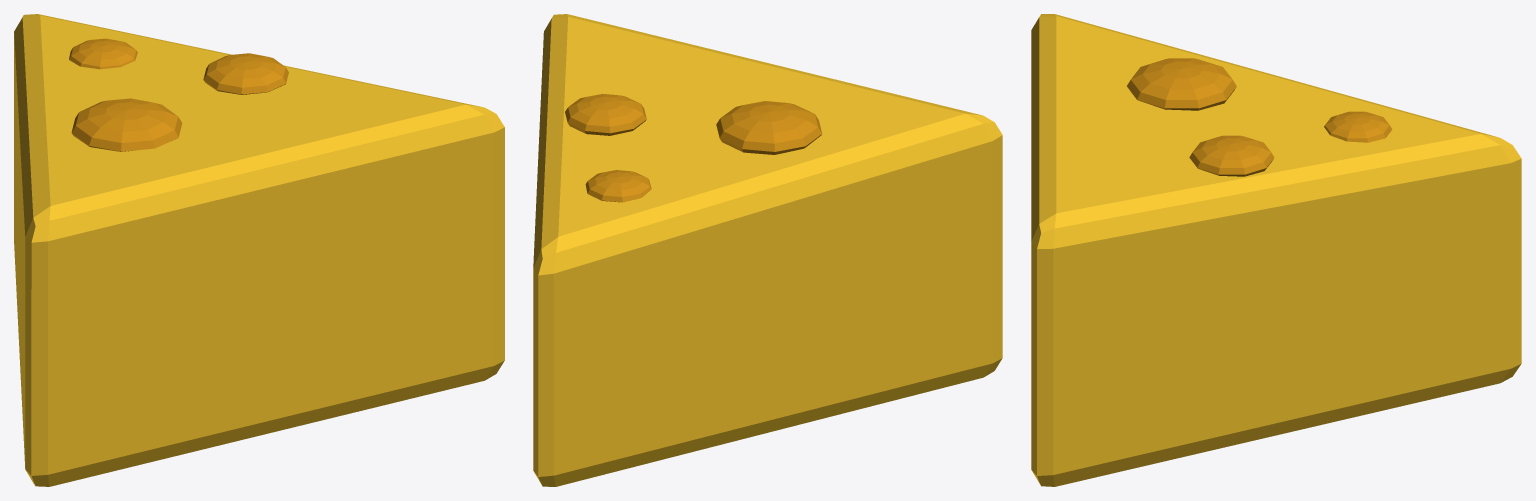
The model's file is cheese-wedge.glb.
3 views of the same model, side by side, from view 1: azimuth 30°, elevation 25°; view 2: azimuth 150°, elevation 25°; view 3: azimuth 270°, elevation 25° (orthographic). The views are drawn at different scales.
Parts seen in each view (by area): view 1: CheeseWedge, Sphere, Sphere.001, Sphere.002; view 2: CheeseWedge, Sphere, Sphere.001, Sphere.002; view 3: CheeseWedge, Sphere, Sphere.001, Sphere.002.
Part boxes in pixels (x1,y1,x2,y2): CheeseWedge: (14, 14, 504, 486); Sphere: (71, 98, 182, 151); Sphere.001: (203, 53, 288, 94); Sphere.002: (69, 38, 137, 69); CheeseWedge: (533, 14, 1002, 486); Sphere: (716, 101, 822, 154); Sphere.001: (565, 94, 646, 135); Sphere.002: (585, 170, 651, 202); CheeseWedge: (1031, 14, 1521, 486); Sphere: (1127, 58, 1236, 110); Sphere.001: (1189, 135, 1274, 176); Sphere.002: (1324, 111, 1392, 142).
Size of the model in its own units: 0.2122 by 0.1257 by 0.1955.
